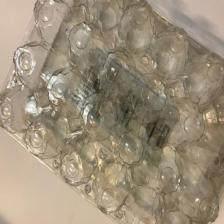plastic: (0, 0, 224, 224)
